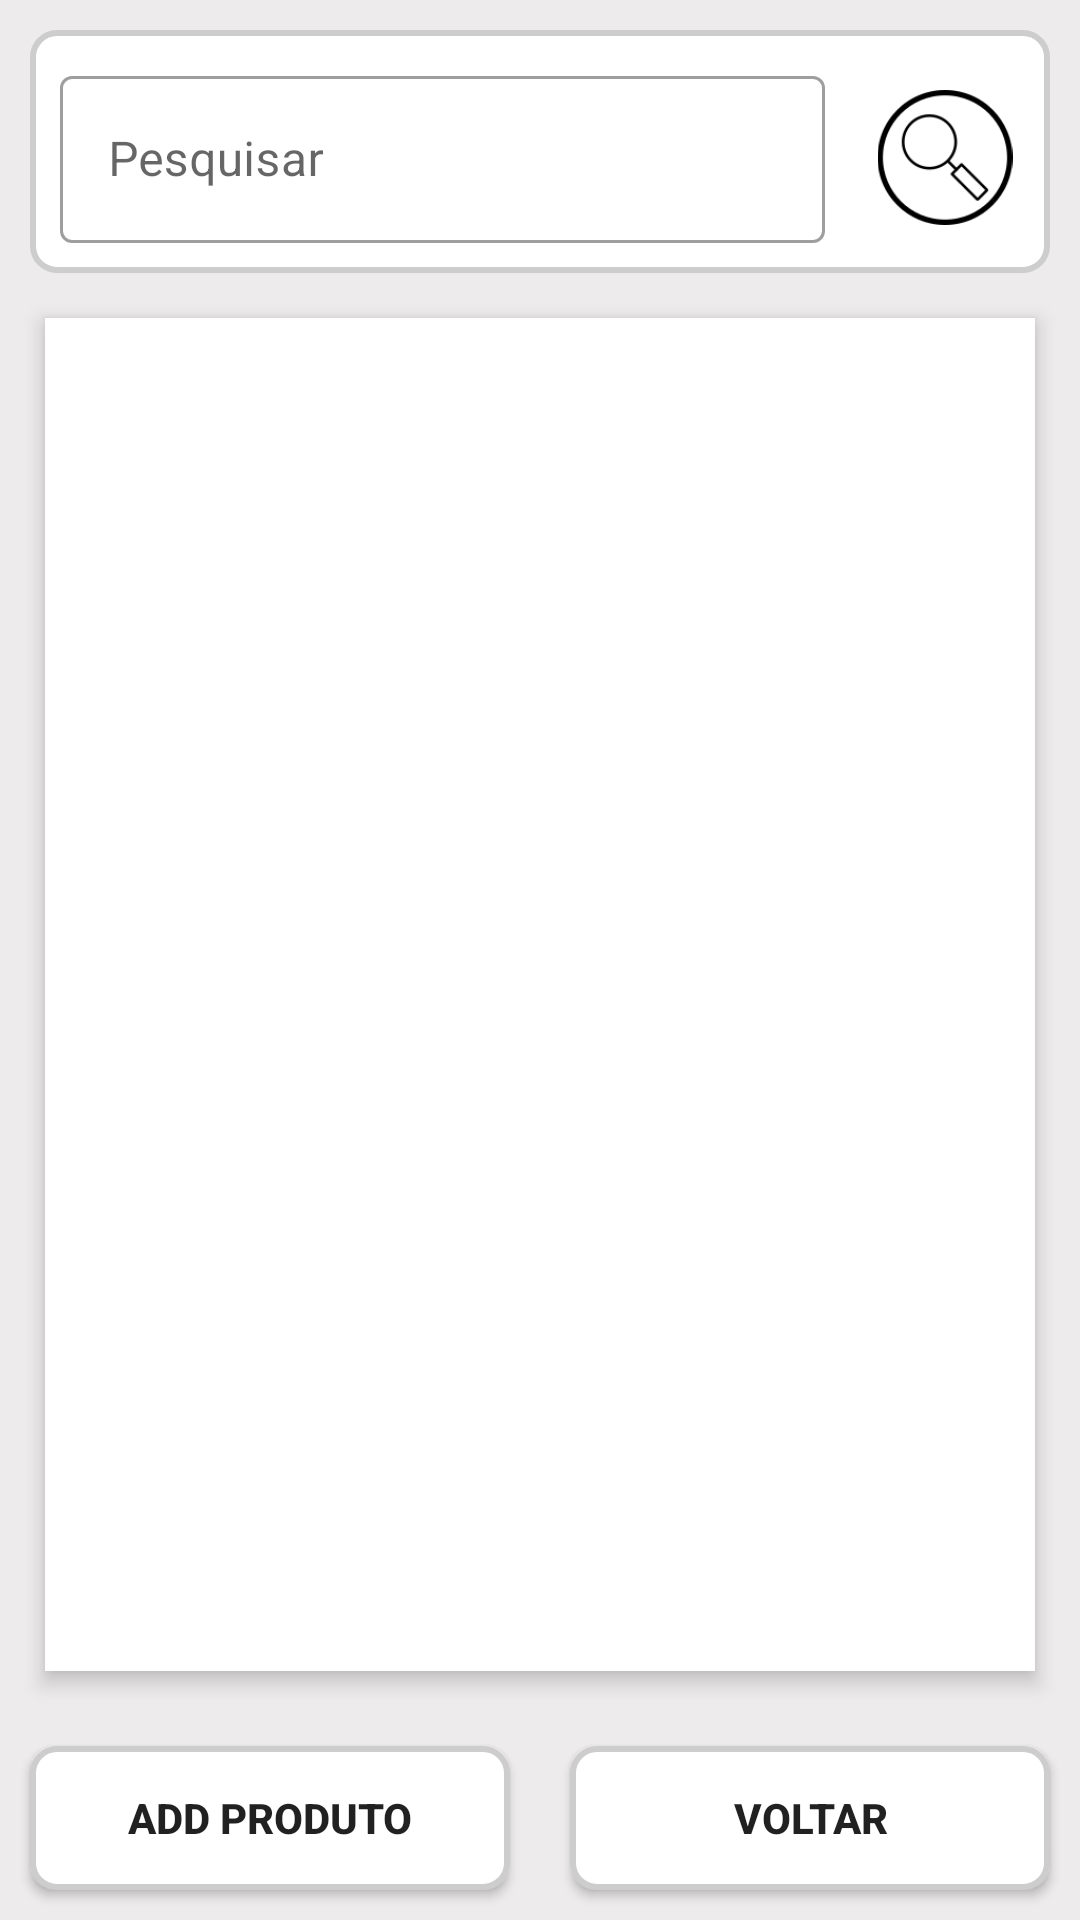

Locate icon controls on the screen. Image size 1080x1920, boxes as (x1, y1, x2, y2).
search: (878, 90, 1013, 225)
